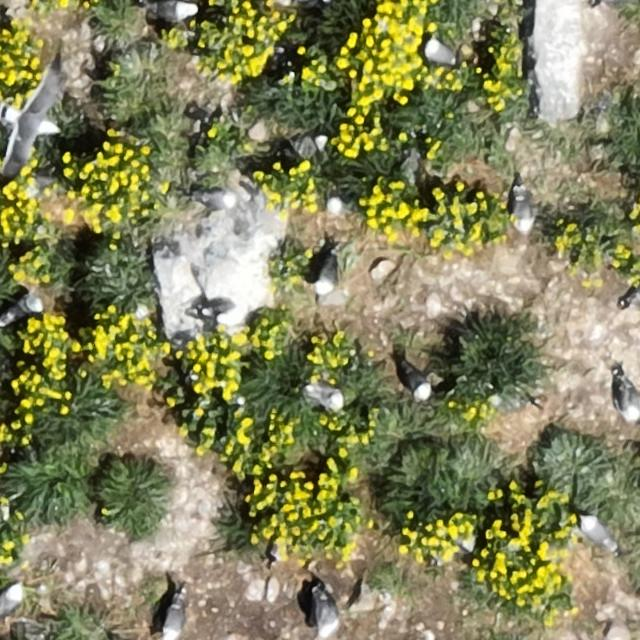F: (7, 72, 68, 173)
umineko: (312, 175, 348, 224), (609, 368, 639, 424), (582, 516, 614, 548), (315, 594, 337, 637), (144, 2, 193, 21), (1, 298, 38, 323), (403, 366, 430, 397), (163, 602, 184, 638), (426, 41, 455, 67), (306, 387, 340, 409), (513, 190, 532, 228), (1, 583, 22, 615), (201, 191, 239, 208), (316, 257, 334, 291), (624, 289, 639, 308)
